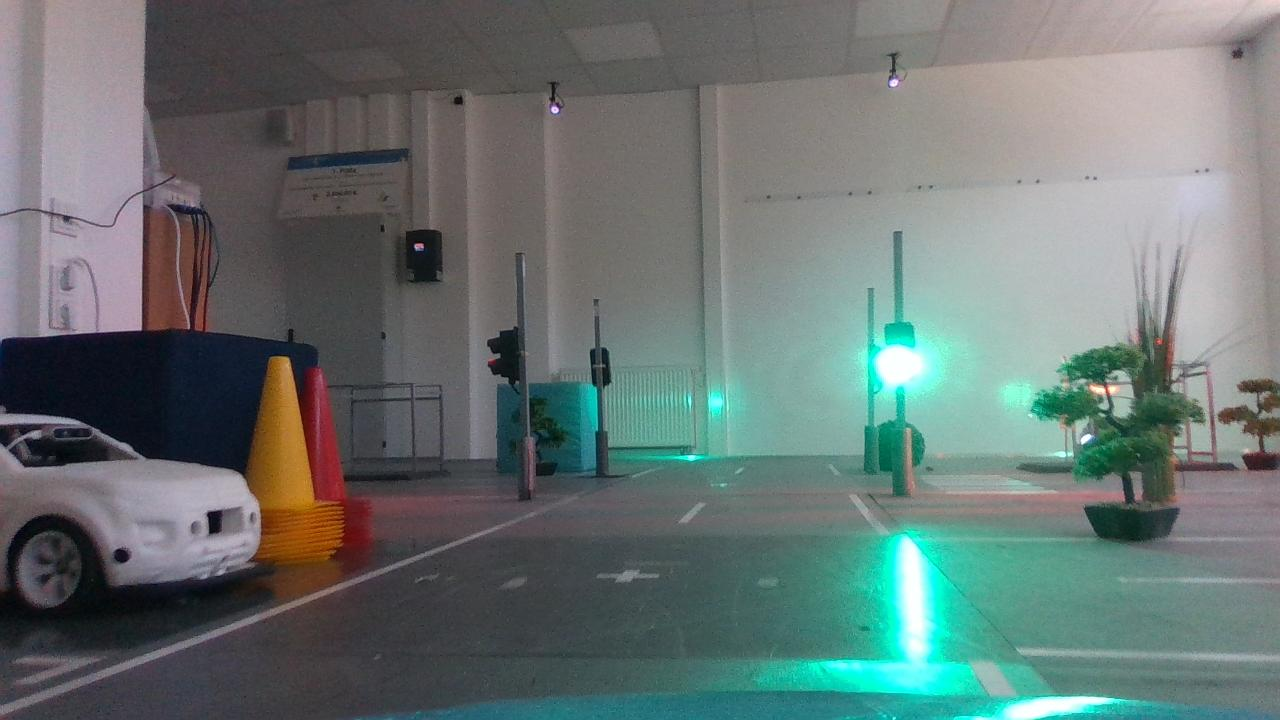traffic_light_green: (872, 319, 930, 395)
